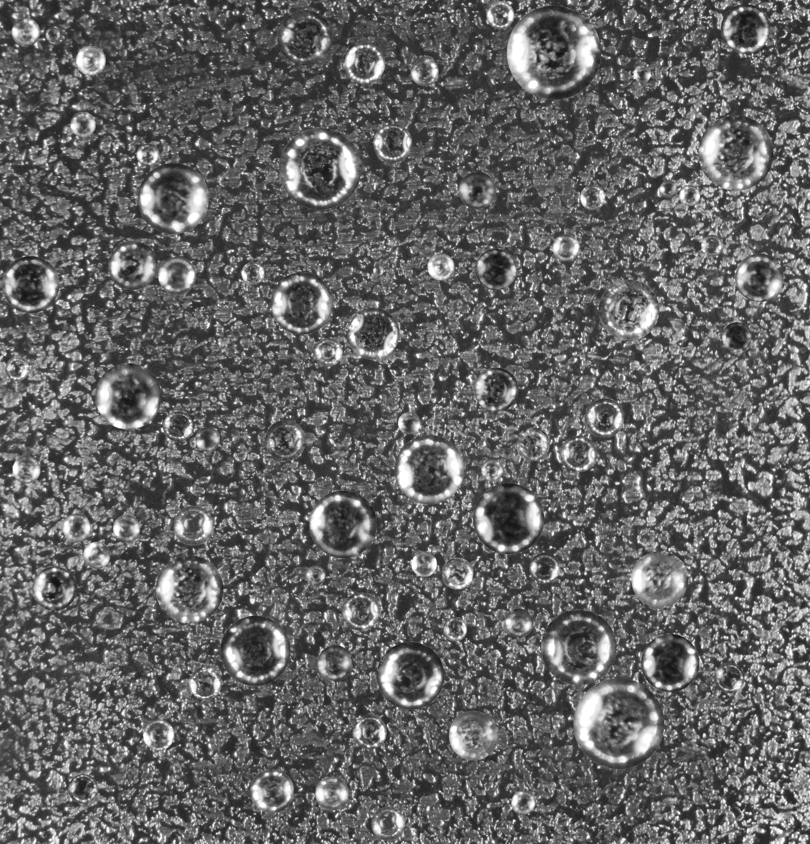Bubble: (507, 5, 601, 99), (573, 678, 664, 769), (279, 127, 361, 209), (541, 609, 616, 685), (698, 115, 773, 190), (473, 483, 544, 554), (220, 615, 290, 685), (138, 163, 208, 233), (394, 435, 464, 504), (155, 555, 223, 623), (309, 490, 376, 558), (376, 642, 444, 709), (95, 363, 161, 429), (270, 272, 332, 334), (598, 279, 659, 340), (641, 634, 699, 692), (2, 256, 59, 313), (631, 551, 688, 607), (277, 10, 332, 65), (347, 307, 399, 359), (721, 4, 770, 53), (108, 240, 157, 289), (449, 711, 498, 760), (735, 253, 783, 301), (32, 566, 76, 610), (474, 367, 518, 411), (250, 769, 293, 813), (475, 248, 516, 290), (344, 43, 385, 83), (265, 420, 305, 460), (173, 505, 213, 545), (373, 123, 412, 162), (585, 398, 624, 437), (158, 256, 196, 294), (341, 592, 379, 630), (458, 171, 495, 208), (560, 435, 596, 472), (317, 645, 352, 680), (352, 715, 386, 749), (516, 427, 549, 461), (371, 807, 405, 840), (315, 777, 348, 810), (188, 667, 221, 699), (441, 557, 473, 589), (143, 719, 174, 750), (529, 552, 560, 583), (163, 411, 193, 441), (714, 663, 744, 693), (722, 322, 751, 352), (76, 45, 105, 75), (68, 774, 97, 803), (504, 608, 533, 637), (11, 17, 39, 46), (12, 455, 40, 483), (62, 513, 90, 541), (314, 338, 342, 366), (410, 58, 438, 85), (486, 1, 514, 28), (112, 515, 140, 542), (427, 253, 454, 280), (83, 541, 110, 568), (552, 234, 579, 261), (70, 111, 95, 137), (580, 185, 605, 210), (411, 551, 436, 576), (443, 617, 467, 641), (195, 427, 219, 451), (511, 790, 535, 814), (5, 357, 29, 380), (136, 143, 159, 166), (241, 262, 264, 284), (398, 412, 420, 434), (481, 459, 503, 481), (701, 234, 722, 256), (679, 185, 700, 206), (305, 565, 325, 585), (633, 65, 651, 82), (660, 180, 677, 197), (45, 27, 59, 41), (373, 265, 383, 275)
